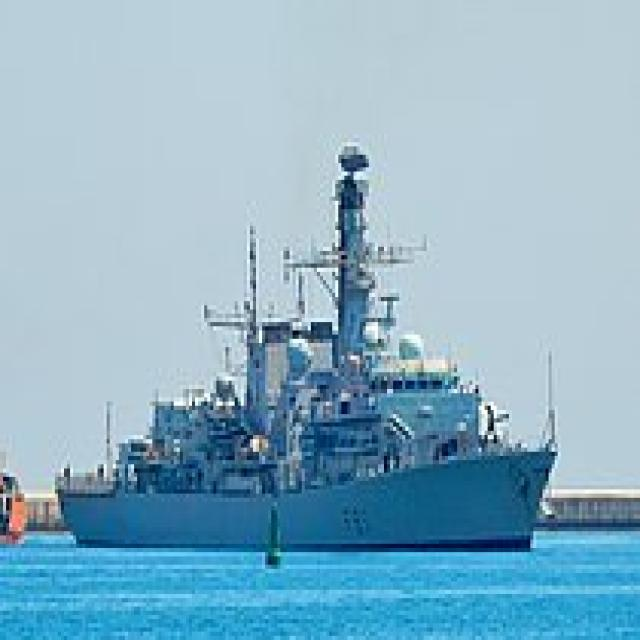Warship: (46, 134, 564, 552)
